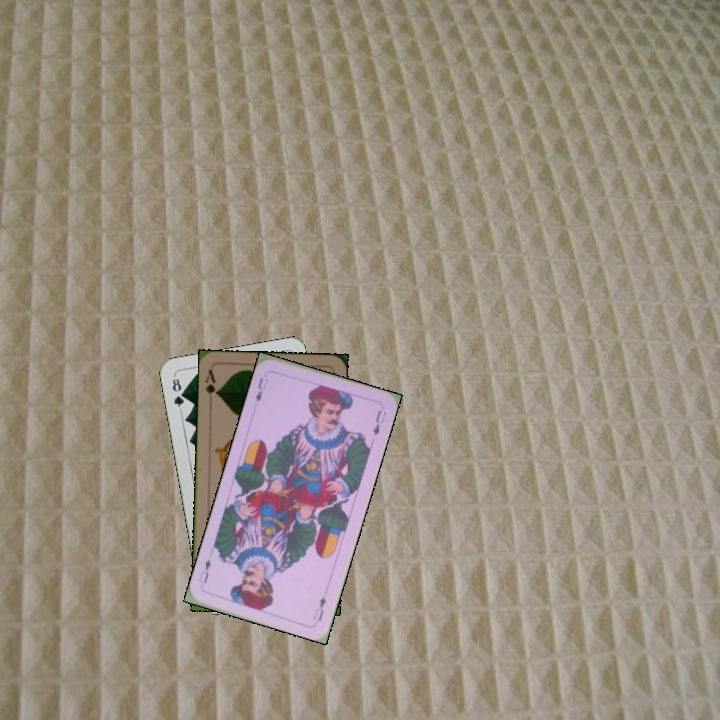EU: (309, 592, 329, 624), (251, 373, 269, 405)
G8: (168, 372, 187, 413)
GA: (201, 365, 221, 398)
